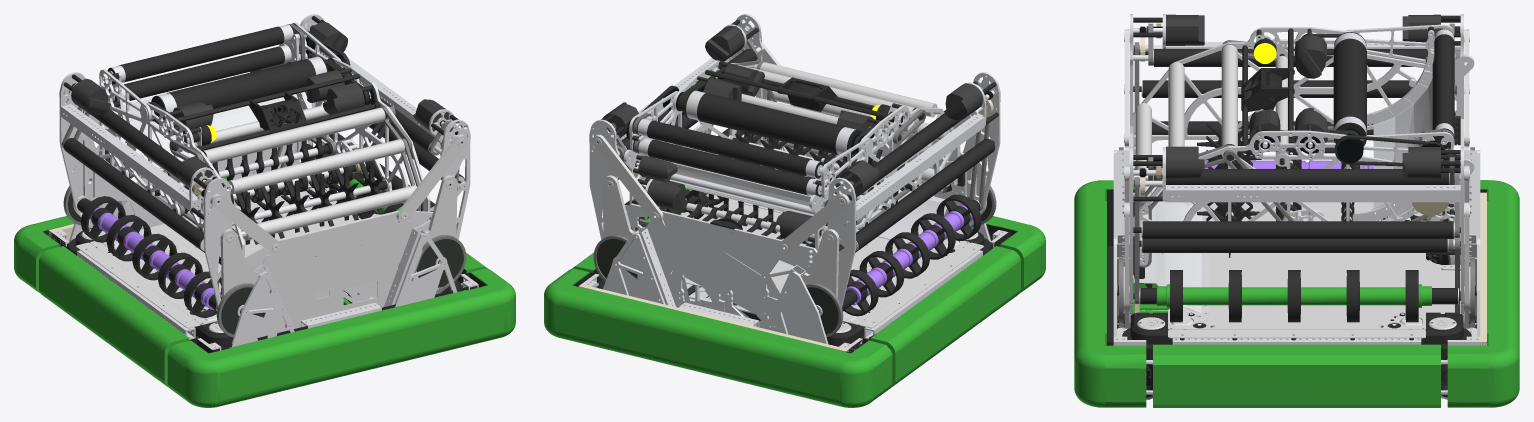
3 views of the same model, side by side, from view 1: azimuth 30°, elevation 25°; view 2: azimuth 150°, elevation 25°; view 3: azimuth 270°, elevation 25° (orthographic). The views are drawn at different scales.
Visible parts, largest first — view 1: intakes, drivebase, shooter & feeder, DKL Griptape, Part 17, 60t Aluminum Sprocket (#25, SplineXL Bore).003, WCP-0940 (Kraken X60).012, 4" Flex Wheel (30A, 1" Wide, 1.25" Round Stretch Bore), 4" Flex Wheel (30A, 1" Wide, 1.25" Round Stretch Bore).004, 4" Flex Wheel (30A, 1" Wide, 1.25" Round Stretch Bore).001, 4" Flex Wheel (30A, 1" Wide, 1.25" Round Stretch Bore).002, WCP-0940 (Kraken X60).006 (+13 smaller); view 2: intakes, drivebase, shooter & feeder, DKL Griptape, Part 17, 9056K912_Multipurpose 6061 Aluminum Round Tube.008, 4" Flex Wheel (30A, 1" Wide, 1.25" Round Stretch Bore), 4" Flex Wheel (30A, 1" Wide, 1.25" Round Stretch Bore).003, WCP-0940 (Kraken X60).013, 4" Flex Wheel (30A, 1" Wide, 1.25" Round Stretch Bore).001, 4" Flex Wheel (30A, 1" Wide, 1.25" Round Stretch Bore).004, WCP-0940 (Kraken X60).011 (+15 smaller); view 3: drivebase, intakes, shooter & feeder, DKL Griptape, Part 17.001, SDS MK5n Top Assembly (A), SDS MK5n Top Assembly (A).002, WCP-0940 (Kraken X60).013, WCP-0940 (Kraken X60).010, WCP-0940 (Kraken X60).011, WCP-0940 (Kraken X60).005, 1/2" Hex Bore Custom Spacer (1.378" OD,3.5" L).001 (+19 smaller).
Part boxes in pixels (left/top/right/bottom): intakes: left=59, top=14, right=470, bottom=346; drivebase: left=14, top=172, right=515, bottom=407; shooter & feeder: left=99, top=22, right=432, bottom=256; DKL Griptape: left=166, top=59, right=315, bottom=108; Part 17: left=76, top=242, right=200, bottom=328; 60t Aluminum Sprocket (#25, SplineXL Bore).003: left=416, top=239, right=463, bottom=287; WCP-0940 (Kraken X60).012: left=71, top=78, right=110, bottom=115; 4" Flex Wheel (30A, 1" Wide, 1.25" Round Stretch Bore): left=106, top=215, right=151, bottom=261; 4" Flex Wheel (30A, 1" Wide, 1.25" Round Stretch Bore).004: left=132, top=233, right=177, bottom=280; 4" Flex Wheel (30A, 1" Wide, 1.25" Round Stretch Bore).001: left=158, top=252, right=202, bottom=298; 4" Flex Wheel (30A, 1" Wide, 1.25" Round Stretch Bore).002: left=80, top=196, right=125, bottom=242; WCP-0940 (Kraken X60).006: left=322, top=82, right=370, bottom=114; intakes: left=589, top=14, right=1000, bottom=344; drivebase: left=544, top=149, right=1045, bottom=407; shooter & feeder: left=623, top=60, right=965, bottom=250; DKL Griptape: left=697, top=93, right=846, bottom=154; Part 17: left=859, top=242, right=983, bottom=328; 9056K912_Multipurpose 6061 Aluminum Round Tube.008: left=670, top=173, right=814, bottom=214; 4" Flex Wheel (30A, 1" Wide, 1.25" Round Stretch Bore): left=859, top=251, right=904, bottom=297; 4" Flex Wheel (30A, 1" Wide, 1.25" Round Stretch Bore).003: left=936, top=194, right=981, bottom=240; WCP-0940 (Kraken X60).013: left=944, top=83, right=982, bottom=119; 4" Flex Wheel (30A, 1" Wide, 1.25" Round Stretch Bore).001: left=911, top=213, right=955, bottom=259; 4" Flex Wheel (30A, 1" Wide, 1.25" Round Stretch Bore).004: left=885, top=232, right=929, bottom=278; WCP-0940 (Kraken X60).011: left=705, top=26, right=744, bottom=61; drivebase: left=1074, top=180, right=1519, bottom=407; intakes: left=1113, top=14, right=1480, bottom=336; shooter & feeder: left=1133, top=24, right=1474, bottom=270; DKL Griptape: left=1333, top=38, right=1366, bottom=133; Part 17.001: left=1168, top=330, right=1425, bottom=338; SDS MK5n Top Assembly (A): left=1381, top=312, right=1476, bottom=364; SDS MK5n Top Assembly (A).002: left=1117, top=312, right=1212, bottom=364; WCP-0940 (Kraken X60).013: left=1153, top=14, right=1204, bottom=45; WCP-0940 (Kraken X60).010: left=1402, top=147, right=1443, bottom=179; WCP-0940 (Kraken X60).011: left=1153, top=146, right=1204, bottom=179; WCP-0940 (Kraken X60).005: left=1295, top=35, right=1326, bottom=78; 1/2" Hex Bore Custom Spacer (1.378" OD,3.5" L).001: left=1360, top=287, right=1405, bottom=305.
Bounding box in the file's own units: 83.82 × 55.02 × 86.33.
